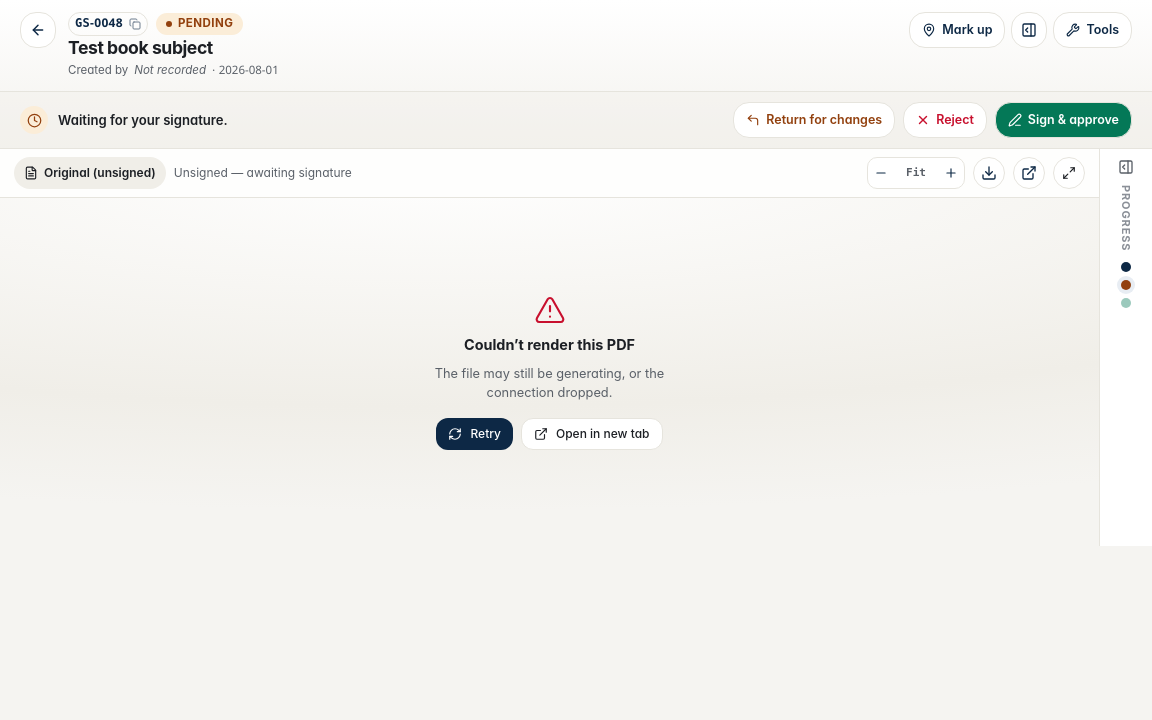
it: BookRecordPage — unified sign confirmation › focus returns to the invoking Sign & approve button after Cancel
The width and height of the screenshot is (1152, 720).
Click the button "Sign & approve". click: click(1063, 120)
box: [995,102,1132,138]
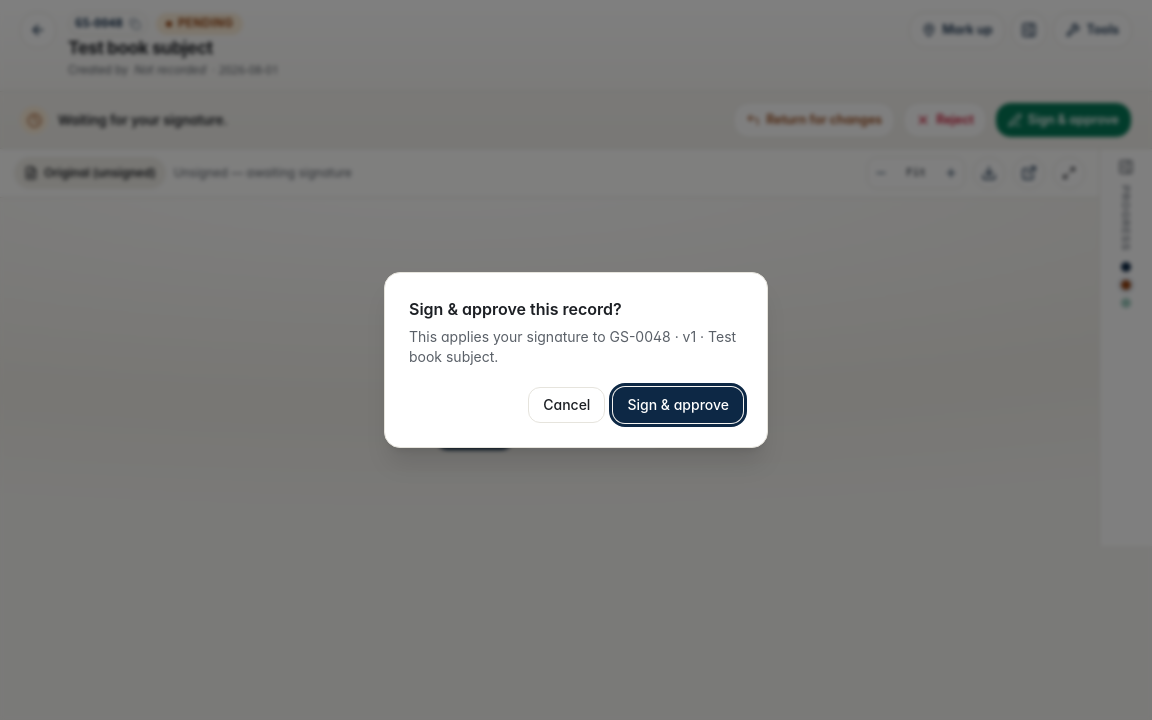
expect the heading "Sign & approve this record?" is shown: met, box [409,299,622,319]
Click the button "Cancel". click: click(567, 405)
box: [528,387,605,423]
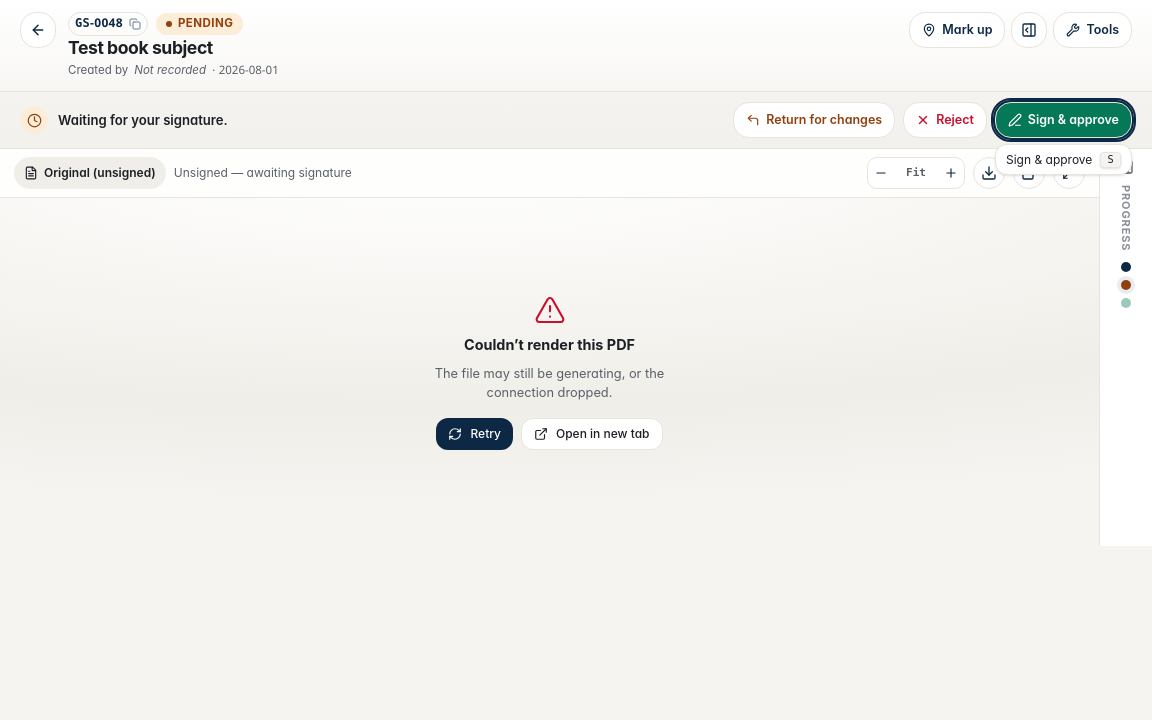
expect the heading "Sign & approve this record?" is gone: met
